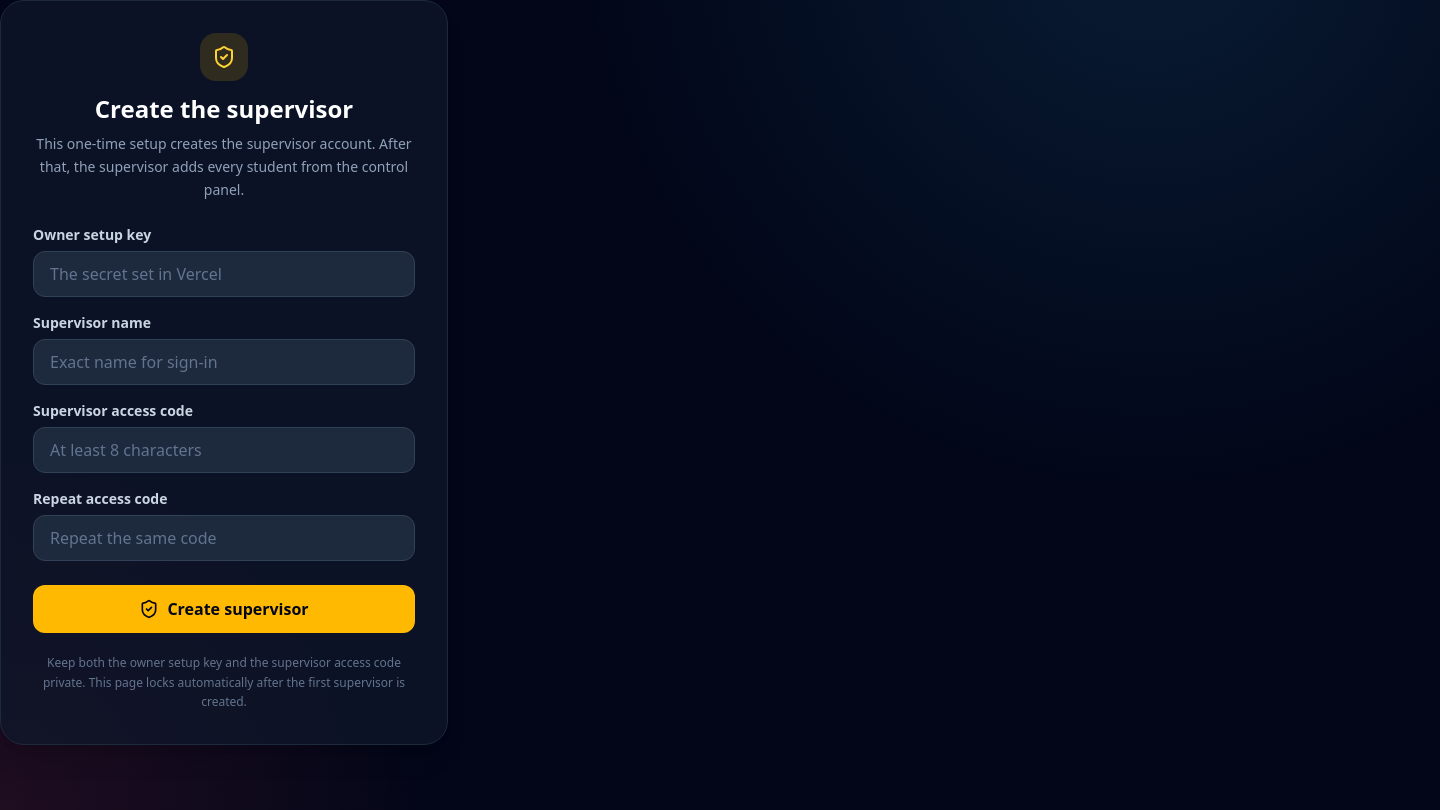
Scenario: <SetupSupervisorForm /> › blocks mismatched supervisor codes
The width and height of the screenshot is (1440, 810).
Type "owner-secret" into the password field labelled "Owner setup key". click: (224, 274)
box: x1=33 y1=251 x2=415 y2=297
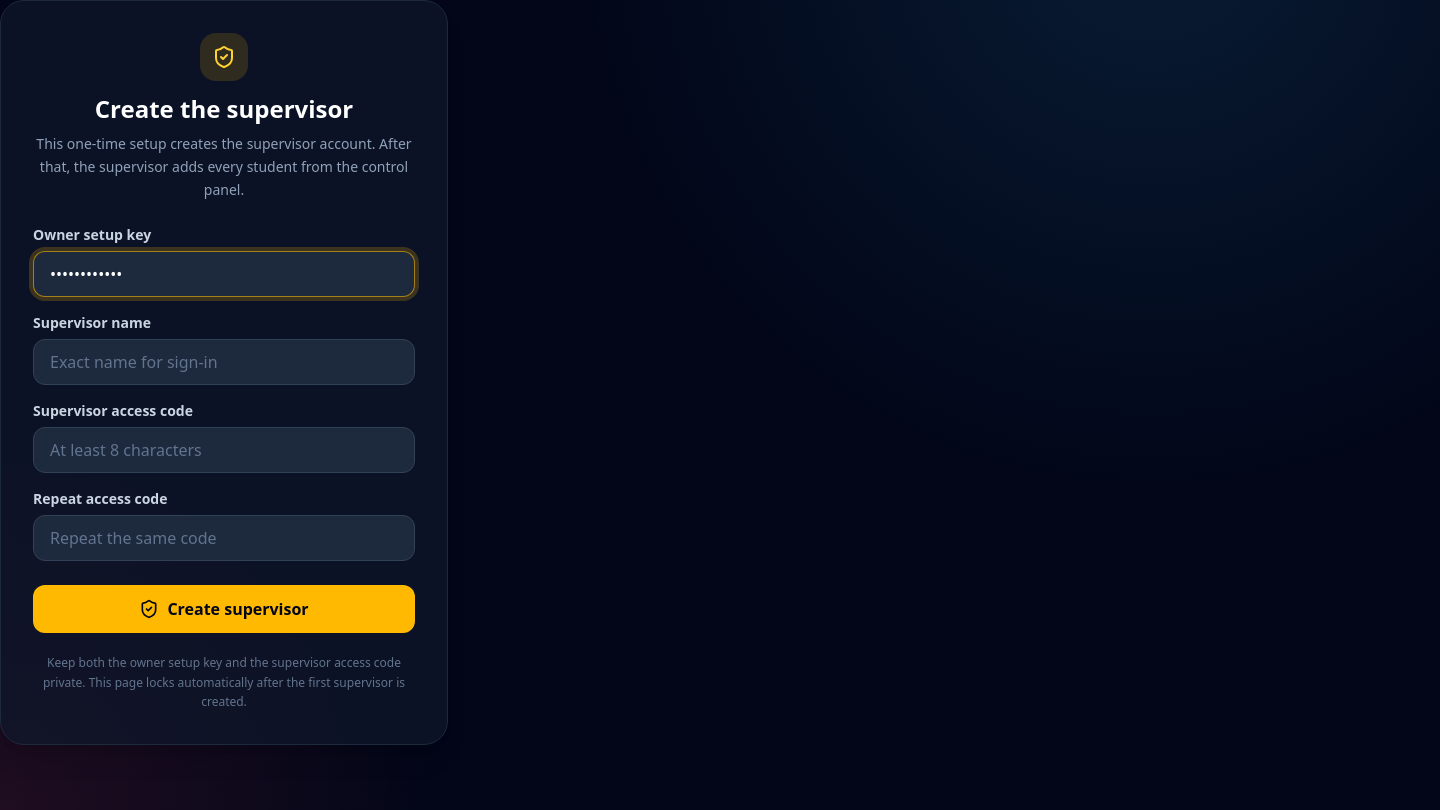
Type "Ms Sara" into the field labelled "Supervisor name". click: (224, 362)
box: x1=33 y1=339 x2=415 y2=385
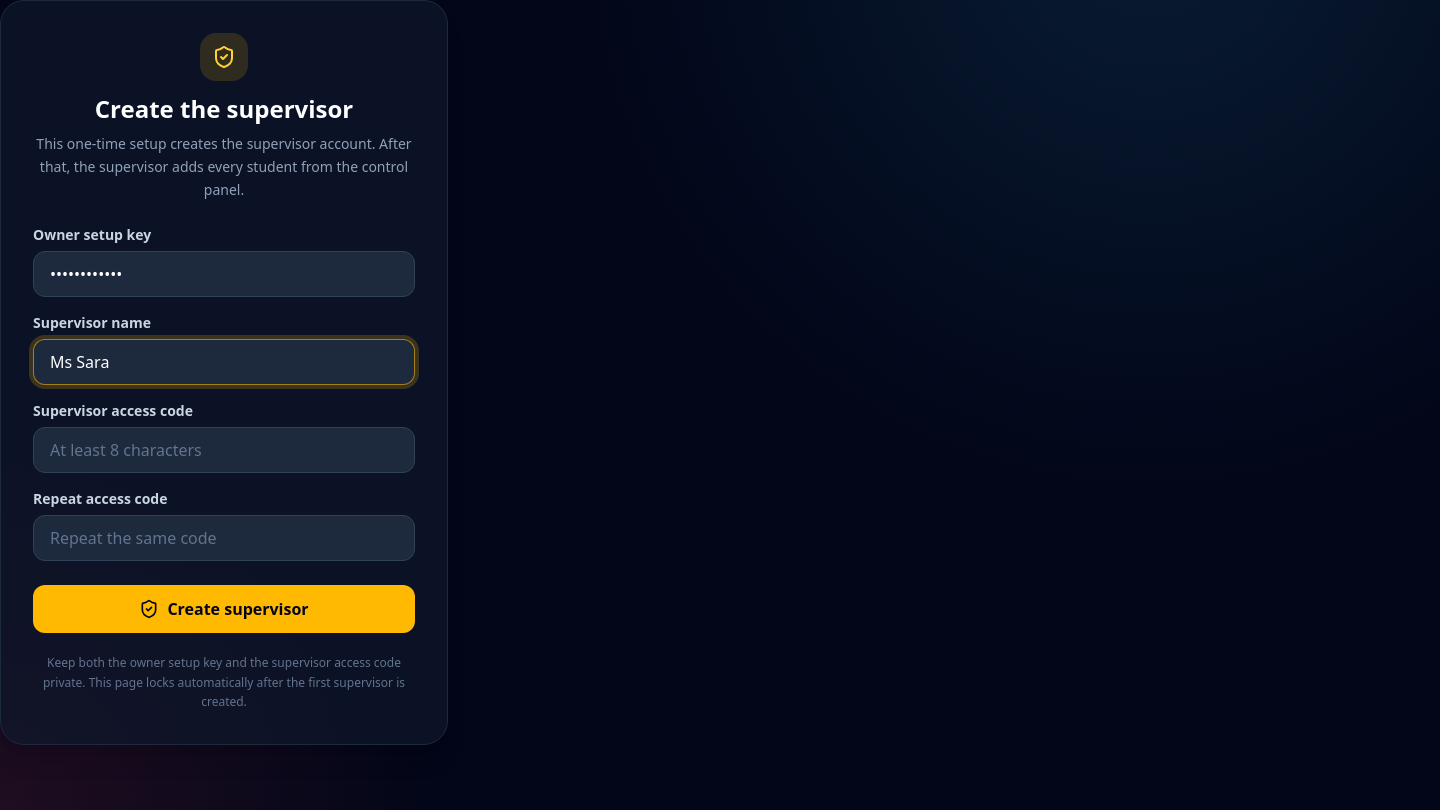
Type "SUPER1234" into the password field labelled "Supervisor access code". click: (224, 450)
box: x1=33 y1=427 x2=415 y2=473
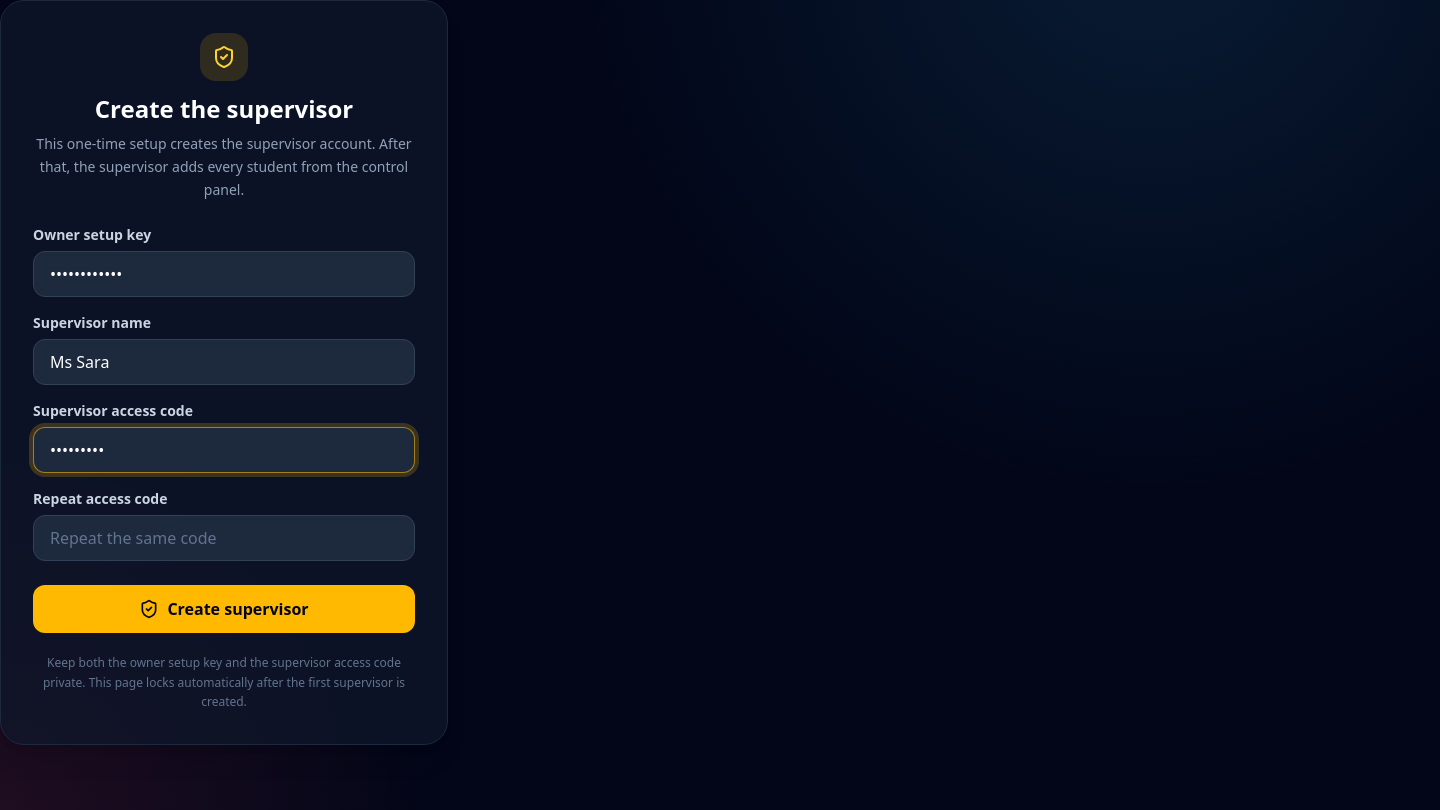
Type "OTHER1234" into the password field labelled "Repeat access code". click: (224, 538)
box: x1=33 y1=515 x2=415 y2=561
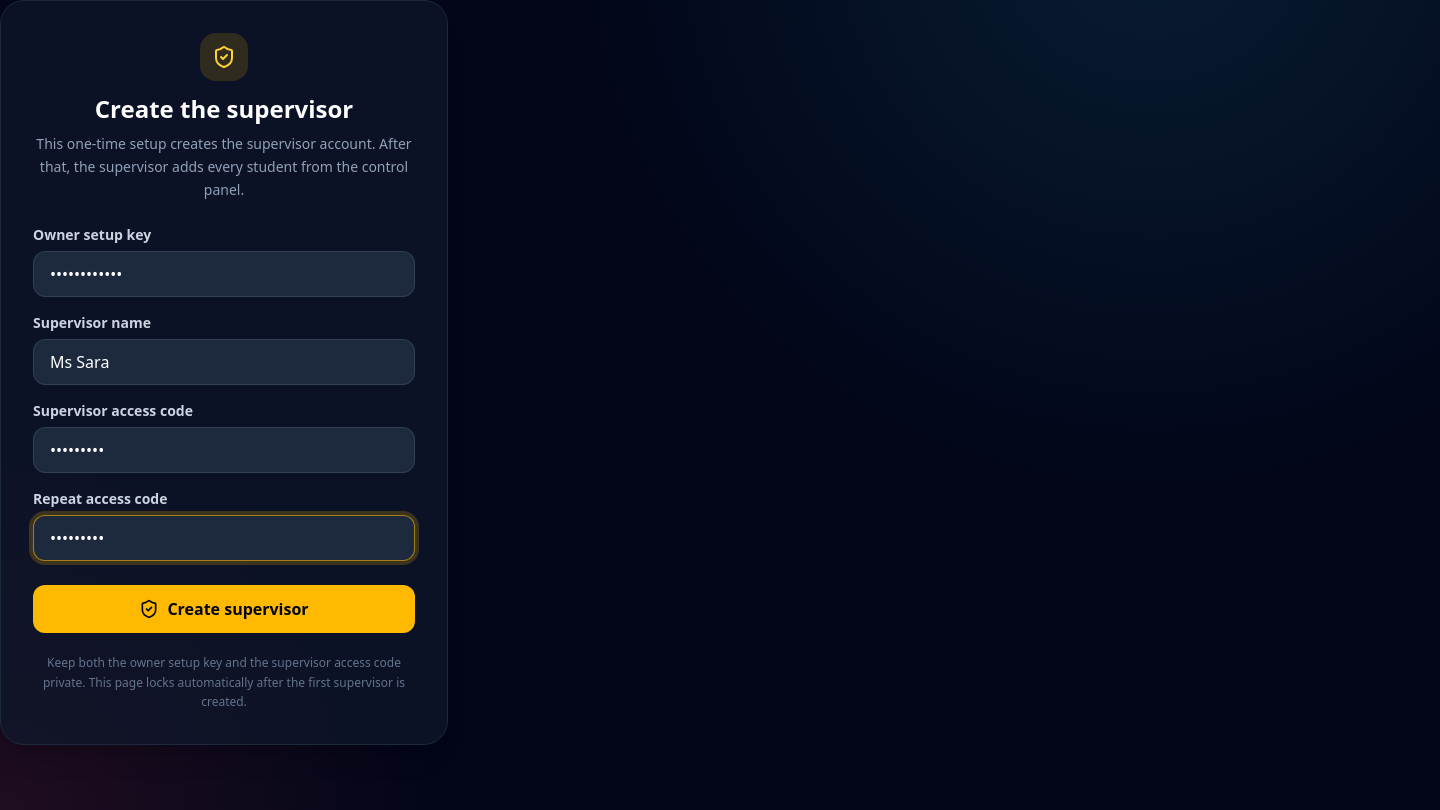
Click the button "Create supervisor". click: (224, 609)
box: x1=33 y1=585 x2=415 y2=633
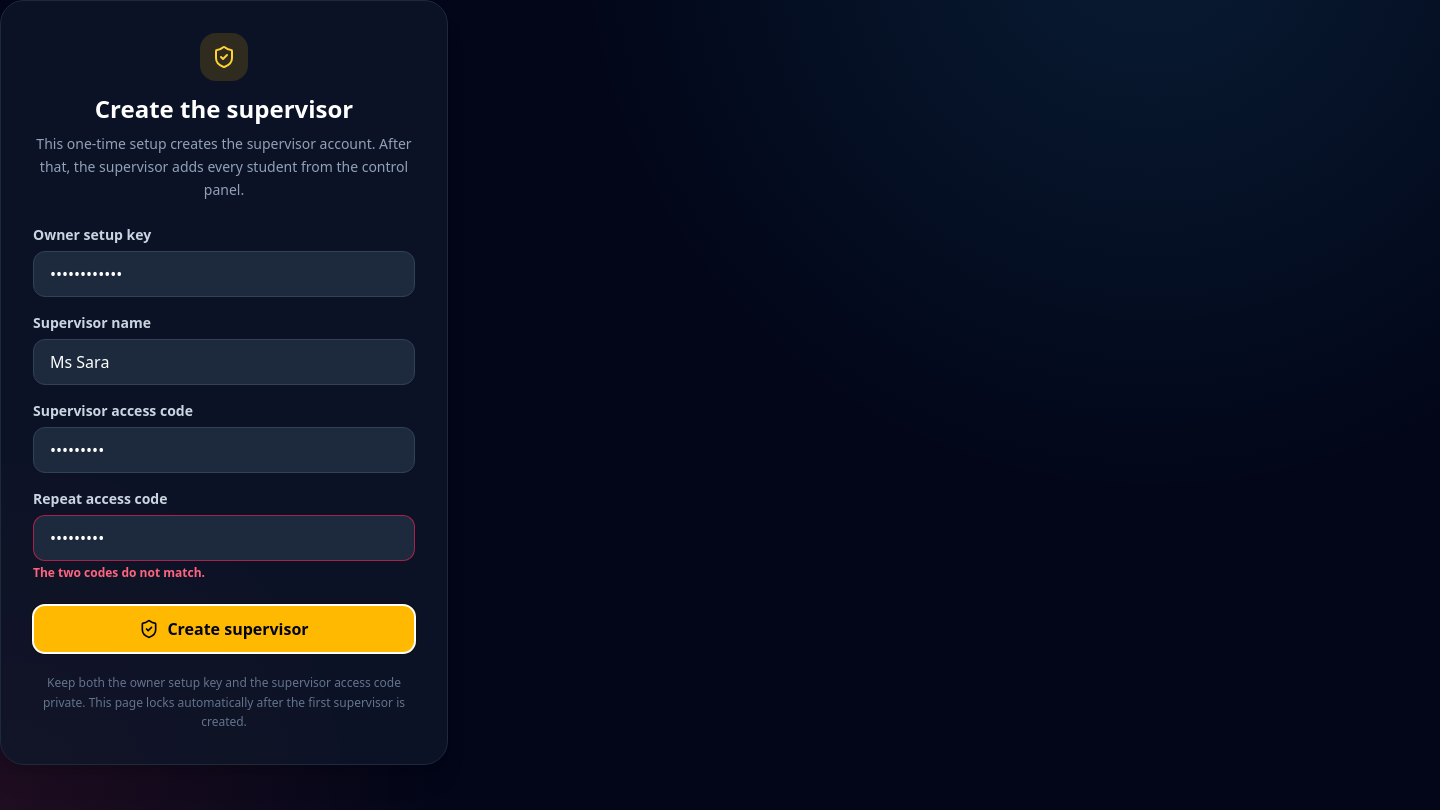
Expected: the text "The two codes do not match." is shown, x1=33 y1=564 x2=205 y2=581
